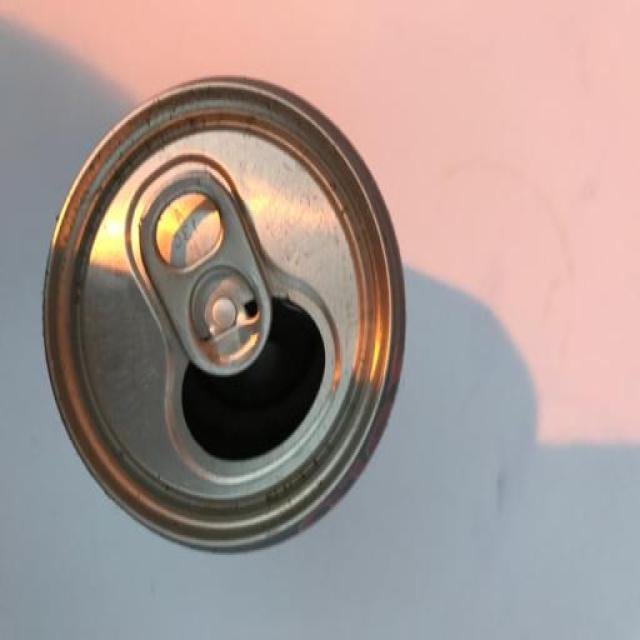Metal: (42, 77, 408, 557)
